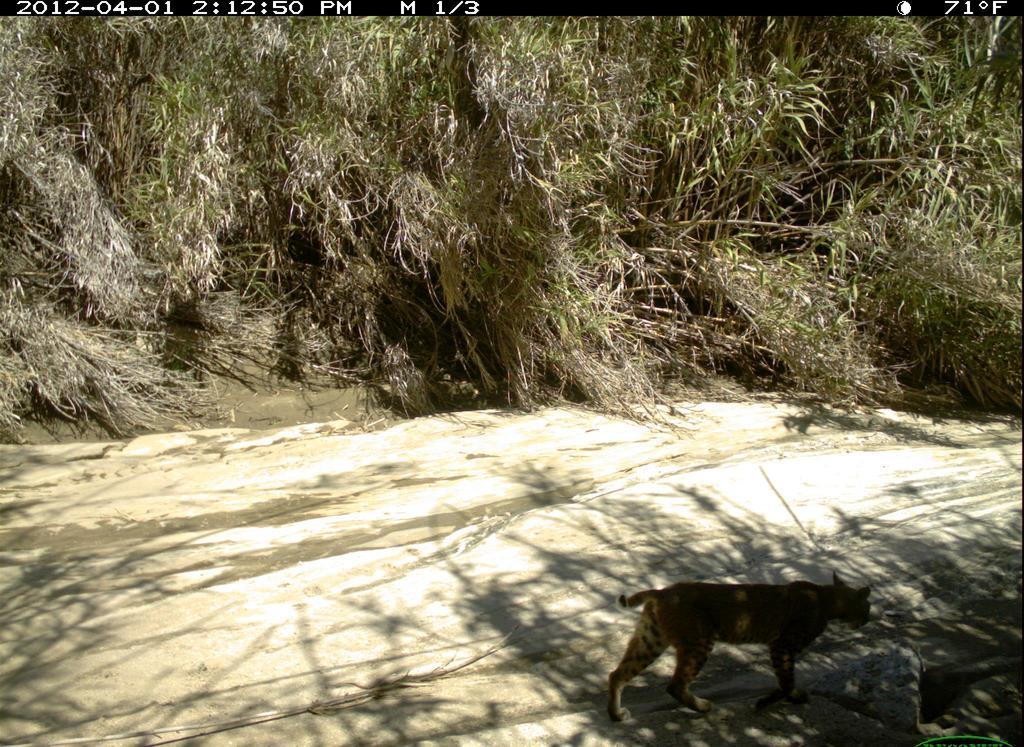bobcat: (591, 562, 884, 733)
